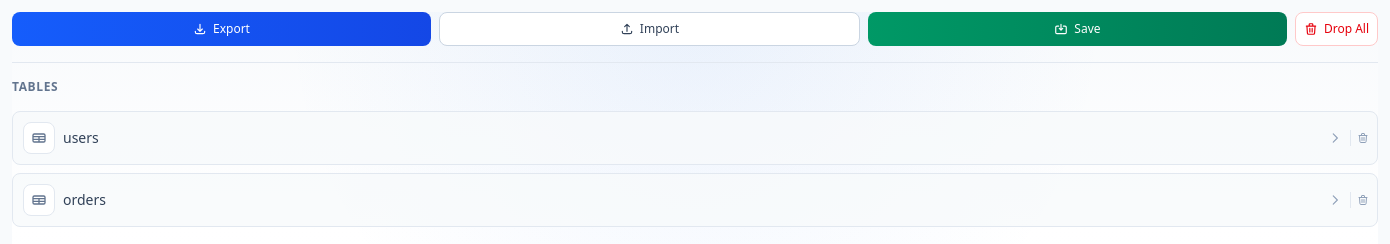
Test: TableList › destructive operations › cancels Drop All confirmation
Click the button with aria-label "Drop all tables": [1336, 29] box x1=1295 y1=12 x2=1378 y2=46
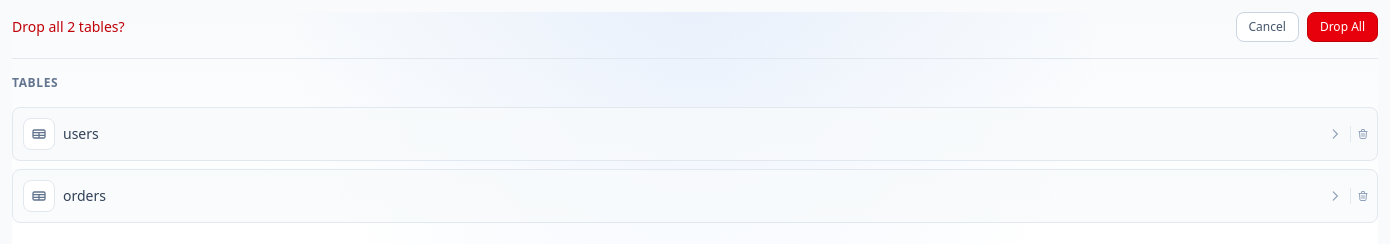
Expected: the text "Drop all 2 tables?" is shown, x1=12 y1=17 x2=125 y2=36
Click the button "Cancel": [1267, 27] box x1=1236 y1=12 x2=1299 y2=42
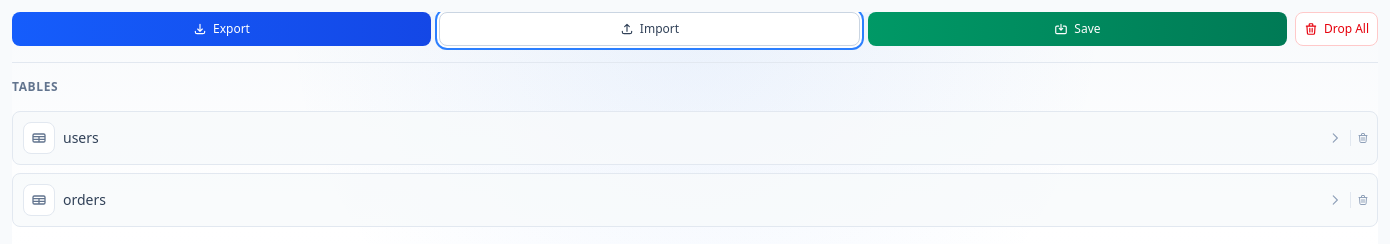
Expected: the text "Drop all 2 tables?" is gone
